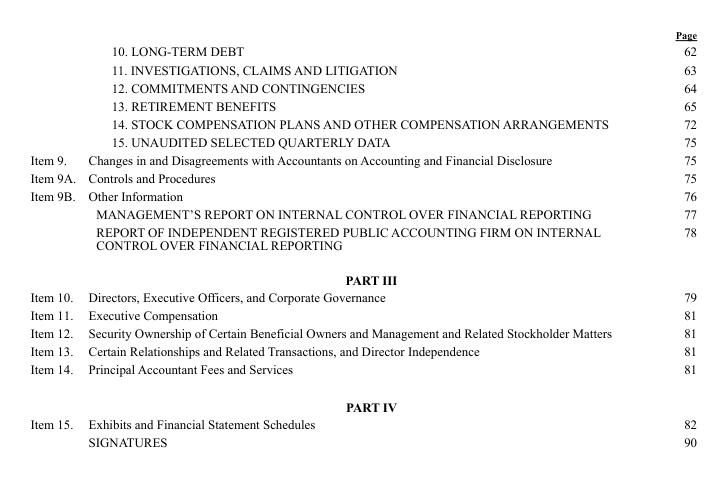table: (29, 28, 696, 448)
table column: (81, 28, 642, 448), (642, 28, 696, 448), (29, 28, 81, 448)
table column header: (29, 28, 696, 150)
table row: (29, 28, 696, 150), (29, 222, 696, 262), (29, 359, 696, 387), (29, 387, 696, 414), (29, 262, 696, 288), (29, 150, 696, 168), (29, 168, 696, 186), (29, 186, 696, 204), (29, 204, 696, 222), (29, 305, 696, 323), (29, 323, 696, 341), (29, 341, 696, 359), (29, 414, 696, 432), (29, 288, 696, 305), (29, 432, 696, 448)
table spanning cell: (29, 186, 81, 288), (29, 359, 81, 414), (29, 414, 81, 448)
